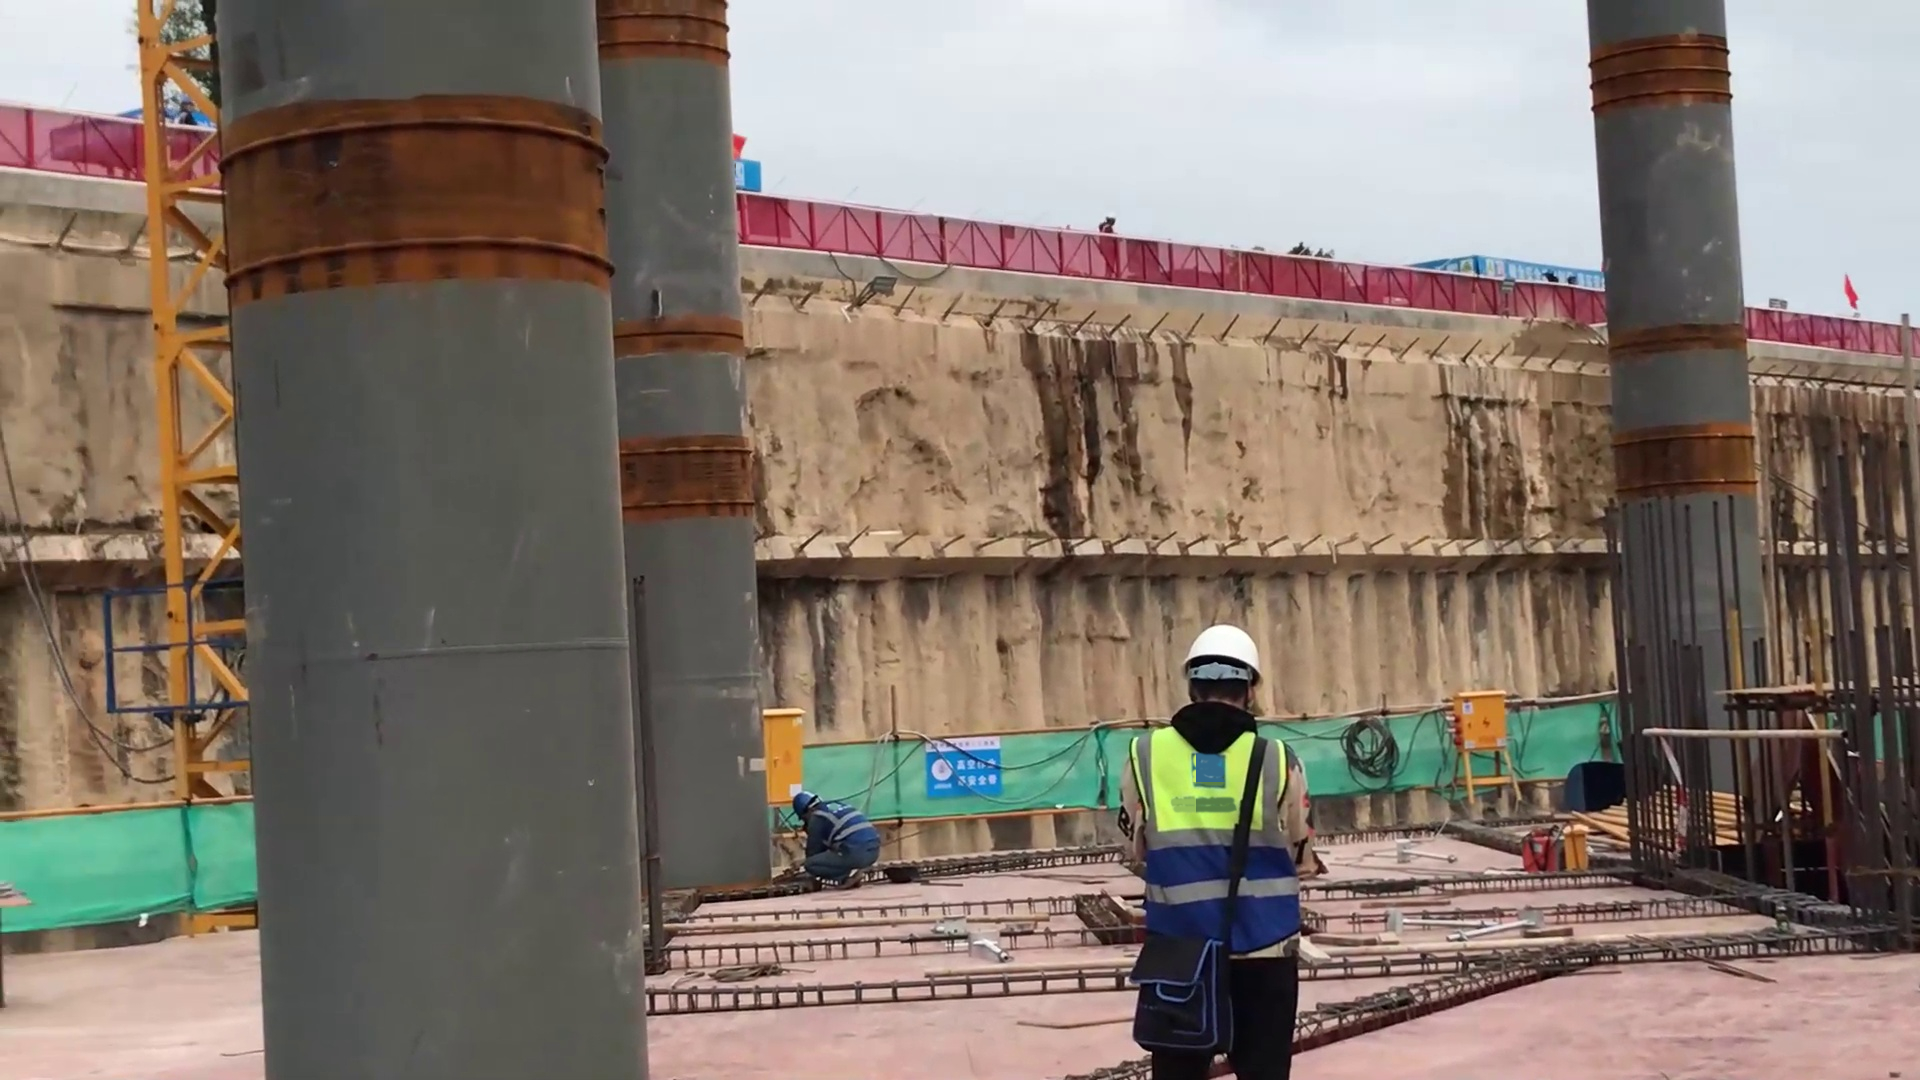ebox: (1439, 646, 1529, 835), (765, 698, 829, 810)
fence: (745, 184, 1623, 378), (1, 56, 135, 188), (1748, 280, 1913, 381)
helmet: (1174, 623, 1267, 684), (792, 785, 824, 826)
person: (1109, 622, 1311, 1077), (788, 787, 879, 885)
slogan: (1406, 235, 1608, 339), (916, 730, 1014, 807)
vest: (1113, 709, 1307, 959), (817, 794, 872, 869)
